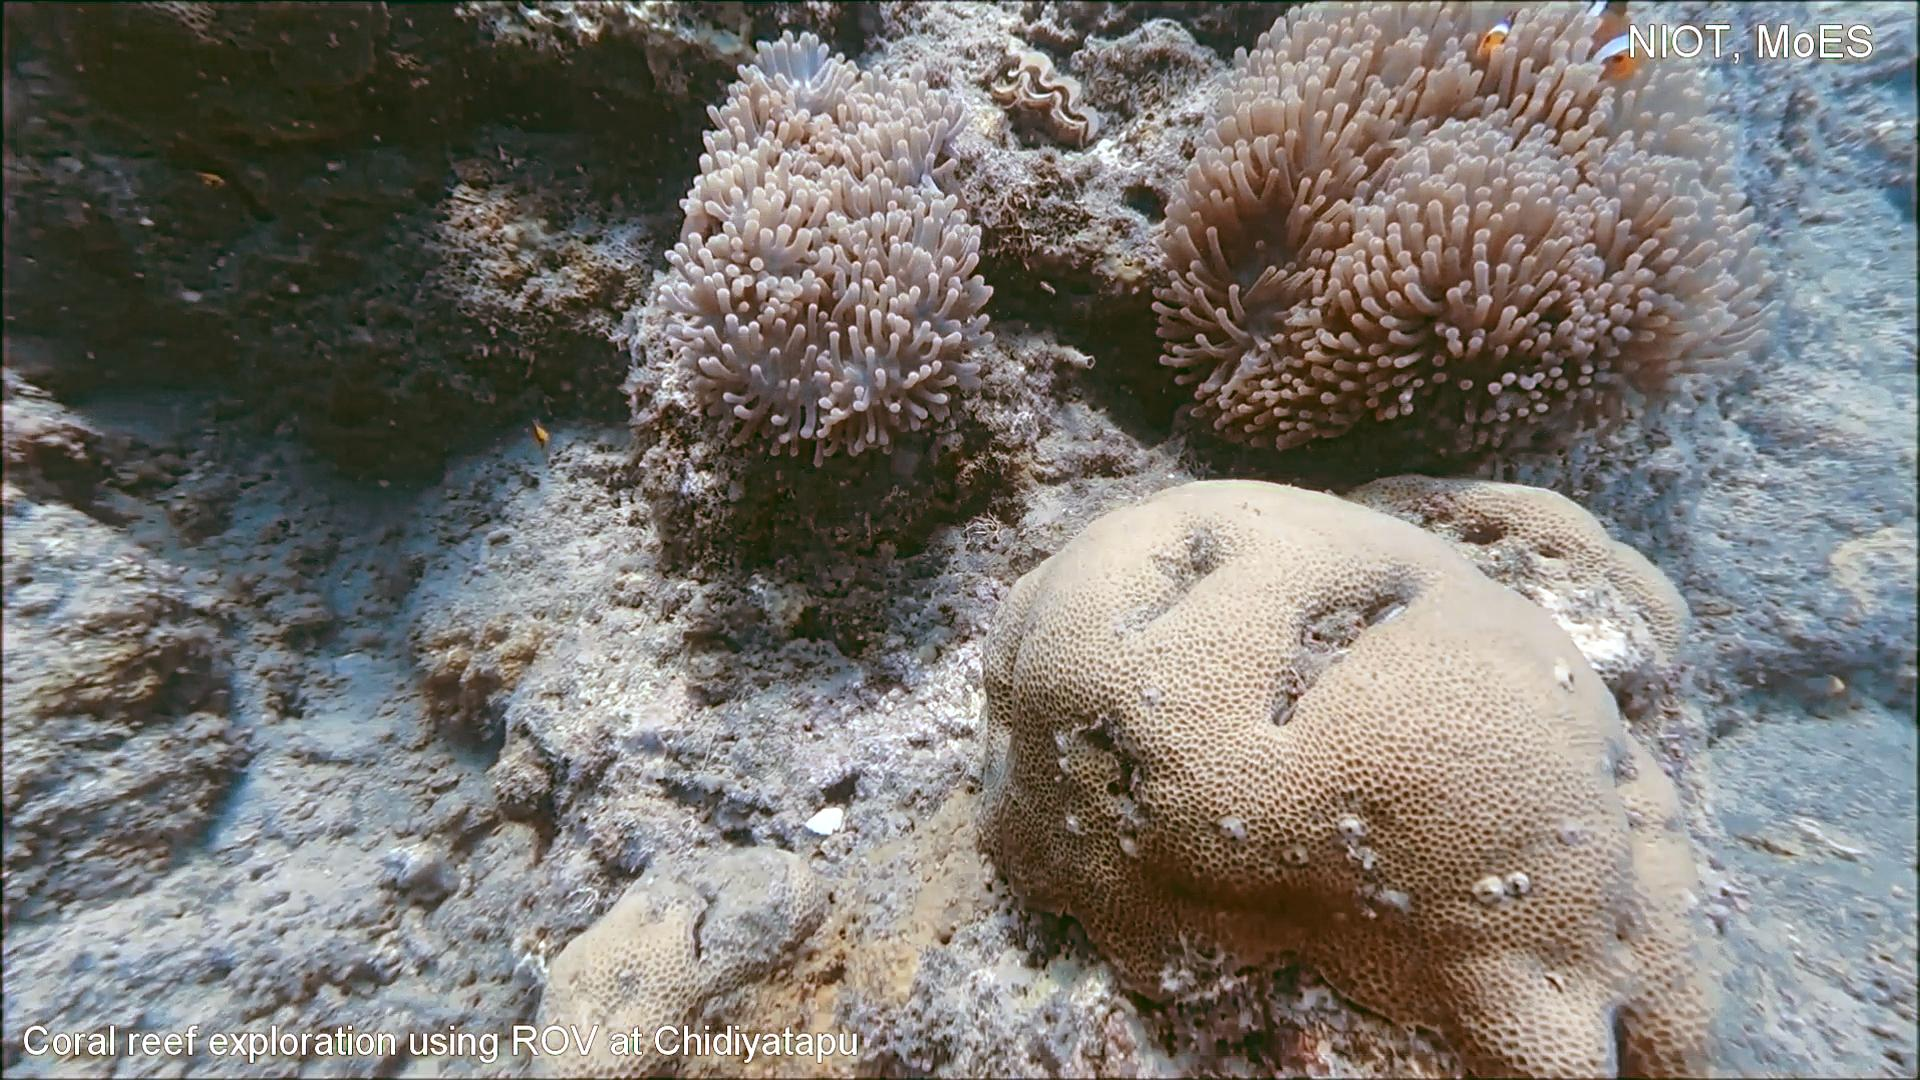Macrodactyla doreensis-Long tentacle Anemone: (1142, 0, 1793, 469), (616, 22, 1006, 476)
Tridacna Clam: (973, 38, 1113, 158)
